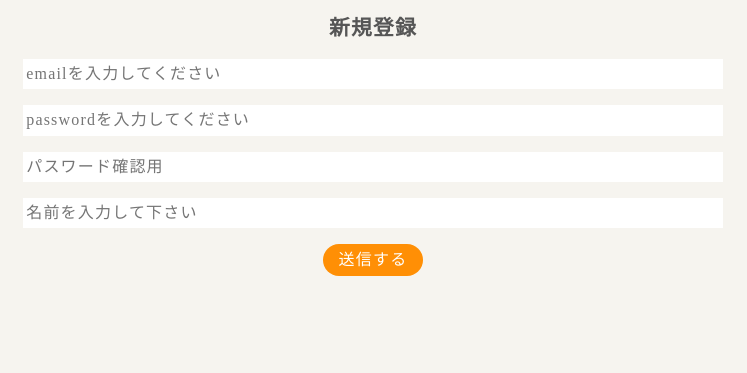
Test: SignUp Component › Validate message should appear
The width and height of the screenshot is (747, 373).
Check: the heading "新規登録" is shown, box x1=329 y1=16 x2=417 y2=39
Type "dummy" into the field with placeholder "emailを入力してください" at (373, 74), box x1=23 y1=59 x2=723 y2=89
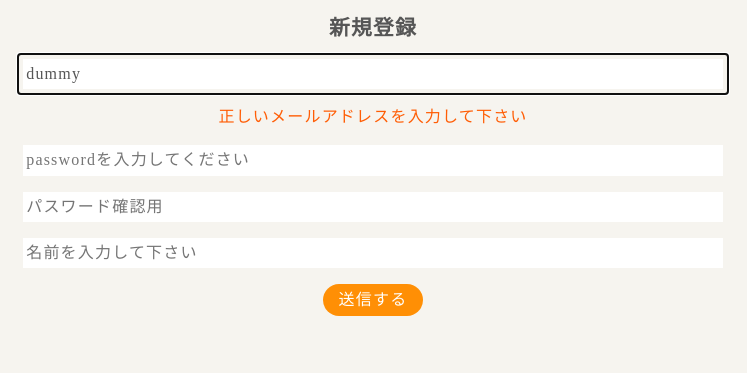
Type "dummy" into the password field with placeholder "passwordを入力してください" at (373, 160), box x1=23 y1=145 x2=723 y2=176
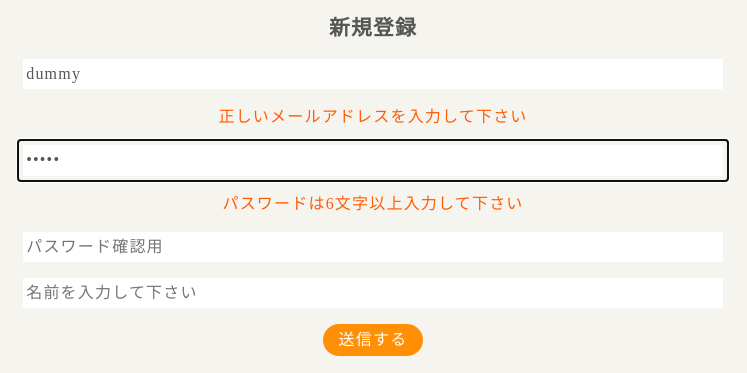
Check: the text "正しいメールアドレスを入力して下さい" is shown, box x1=218 y1=108 x2=528 y2=125
Check: the text "パスワードは6文字以上入力して下さい" is shown, box x1=222 y1=194 x2=524 y2=212
